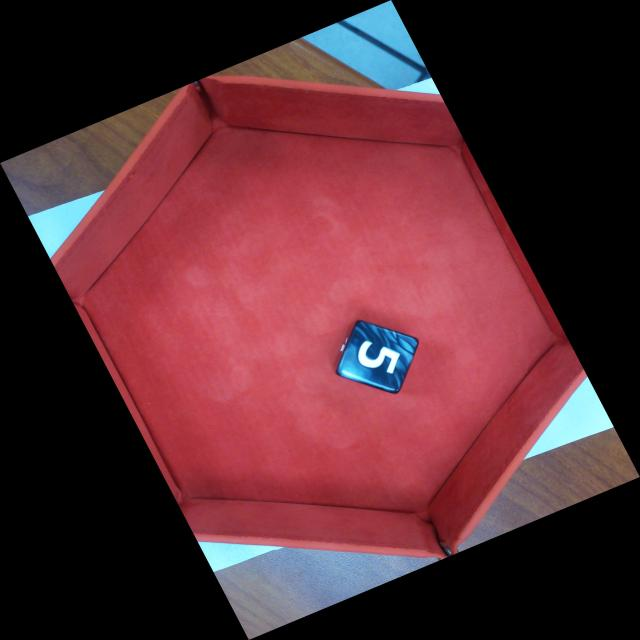dice: (336, 318, 418, 396)
